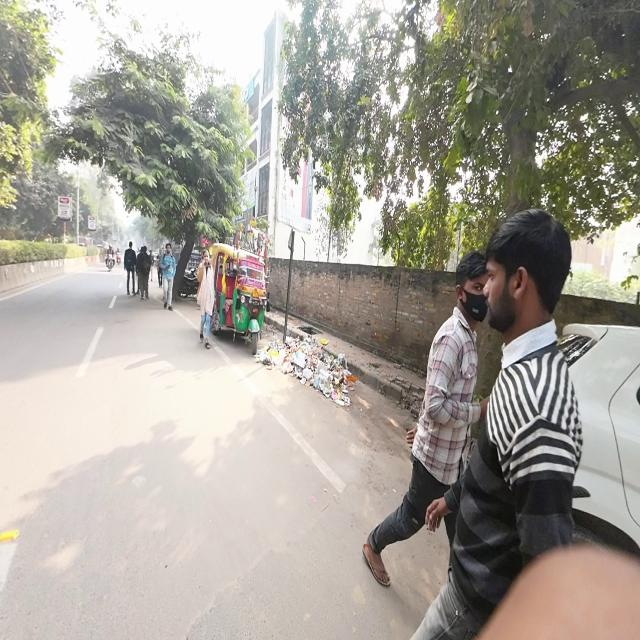Garbage: (307, 351, 353, 406), (266, 334, 311, 375)
